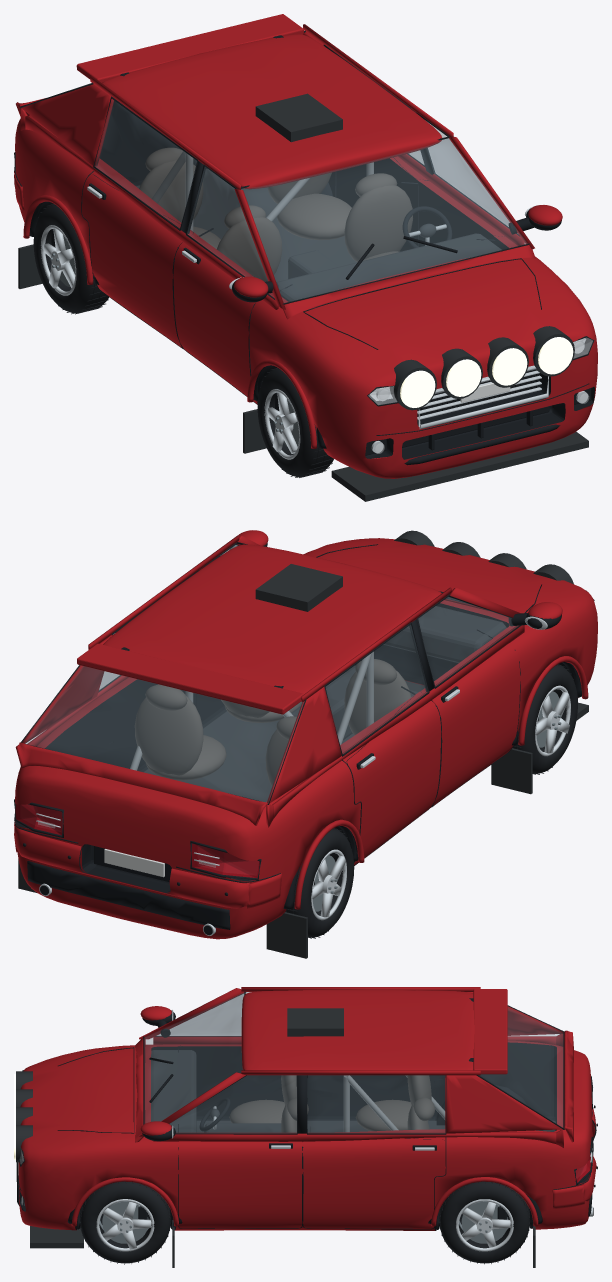
Rendered from road-kestrel-rally.glb.
3 renders of one model, top to bottom at view 1: azimuth 30°, elevation 25°; view 2: azimuth 150°, elevation 25°; view 3: azimuth 270°, elevation 25°, orthographic. The views are drawn at different scales.
Visible parts, largest first — view 1: Aerodynamic mirror painted cap, Front door transparent glass, Aerodynamic mirror lower housing, Contoured seat back, Rally roof vent, Center console, Rally lamp lens, Original tyre carcass and shaped sidewalls.001, Door pull, Original tyre carcass and shaped sidewalls.003, Cast swept alloy spoke.005, Cast swept alloy spoke.015 (+2 smaller); view 2: Aerodynamic mirror painted cap, Front door transparent glass, Aerodynamic mirror lower housing, Contoured seat back, Center console, Rally roof vent, Original tyre carcass and shaped sidewalls.003, Original tyre carcass and shaped sidewalls.001, Flush corner wrapping ruby lamp lens, Cast swept alloy spoke.005, Competition roll hoop upright, Cast swept alloy spoke.015 (+2 smaller); view 3: Aerodynamic mirror painted cap, Front door transparent glass, Aerodynamic mirror lower housing, Center console, Contoured seat back, Rally roof vent, Original tyre carcass and shaped sidewalls.002, Original tyre carcass and shaped sidewalls, Cast swept alloy spoke, Cast swept alloy spoke.010, Competition roll hoop upright, Deep wheel barrel inner lip (+2 smaller).
Part boxes in pixels (x1,y1,x2,y2): Aerodynamic mirror painted cap: [14, 14, 597, 478]; Front door transparent glass: [95, 99, 527, 302]; Aerodynamic mirror lower housing: [14, 30, 594, 465]; Contoured seat back: [139, 147, 412, 281]; Rally roof vent: [18, 93, 588, 501]; Center console: [136, 169, 501, 301]; Rally lamp lens: [400, 337, 573, 407]; Original tyre carcass and shaped sidewalls.001: [257, 368, 333, 477]; Door pull: [87, 186, 588, 453]; Original tyre carcass and shaped sidewalls.003: [33, 204, 108, 313]; Cast swept alloy spoke.005: [264, 389, 300, 459]; Cast swept alloy spoke.015: [41, 225, 76, 295]; Aerodynamic mirror painted cap: [14, 530, 597, 939]; Front door transparent glass: [22, 545, 517, 802]; Aerodynamic mirror lower housing: [14, 542, 594, 935]; Contoured seat back: [134, 659, 411, 786]; Center console: [144, 606, 506, 880]; Rally roof vent: [18, 530, 588, 958]; Original tyre carcass and shaped sidewalls.003: [286, 828, 354, 937]; Original tyre carcass and shaped sidewalls.001: [512, 665, 577, 773]; Flush corner wrapping ruby lamp lens: [15, 804, 259, 878]; Cast swept alloy spoke.005: [535, 685, 570, 756]; Competition roll hoop upright: [130, 651, 373, 770]; Cast swept alloy spoke.015: [311, 849, 346, 920]; Aerodynamic mirror painted cap: [18, 987, 596, 1230]; Front door transparent glass: [145, 992, 562, 1132]; Aerodynamic mirror lower housing: [16, 991, 597, 1230]; Center console: [151, 1050, 555, 1208]; Contoured seat back: [229, 1075, 435, 1132]; Rally roof vent: [16, 1008, 535, 1267]; Original tyre carcass and shaped sidewalls.002: [440, 1181, 529, 1263]; Original tyre carcass and shaped sidewalls: [80, 1181, 170, 1263]; Cast swept alloy spoke: [96, 1199, 154, 1251]; Cast swept alloy spoke.010: [456, 1199, 513, 1251]; Competition roll hoop upright: [343, 1075, 445, 1132]; Deep wheel barrel inner lip: [99, 1201, 148, 1243].
Bounding box in the file's own units: 2.11 × 1.51 × 4.11.
